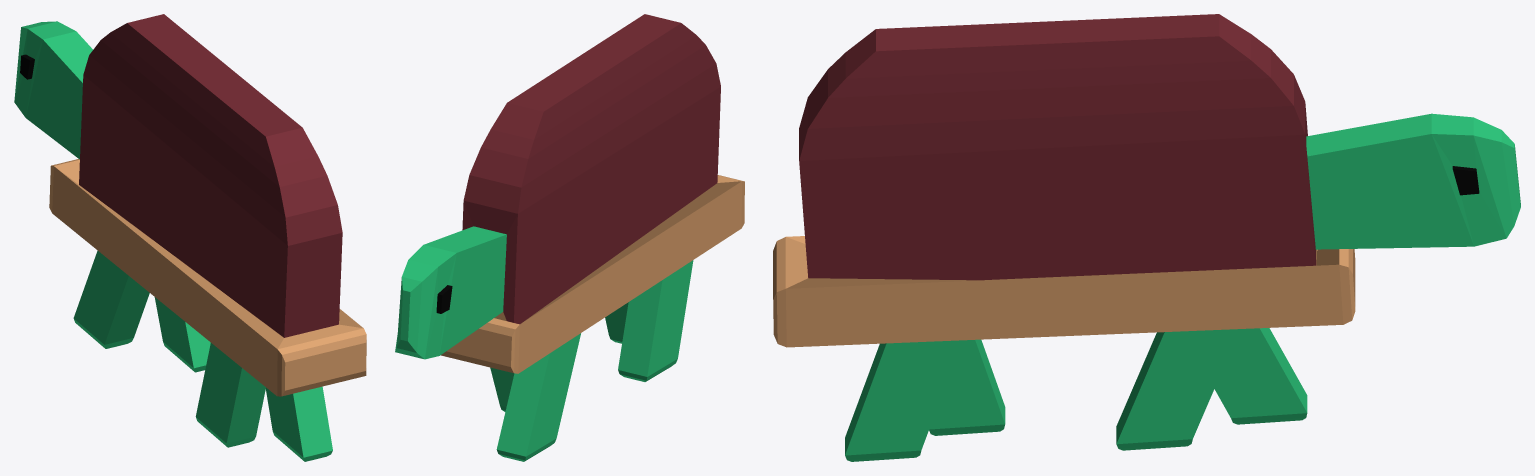
File: kaplumbaga.fbx
3 views of the same model, side by side, from view 1: azimuth 30°, elevation 25°; view 2: azimuth 150°, elevation 25°; view 3: azimuth 270°, elevation 25° (orthographic). The views are drawn at different scales.
Visible parts, largest first — view 1: Cube; view 2: Cube; view 3: Cube.
Boxes of the visible parts, x1=… form: Cube: x1=14, y1=14, x2=366, y2=461; Cube: x1=395, y1=14, x2=744, y2=461; Cube: x1=773, y1=14, x2=1520, y2=461.
Size of the model in its own units: 55.44 by 208 by 337.
